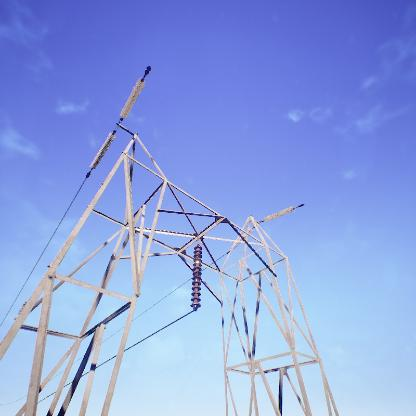insulator: (190, 244, 204, 312)
